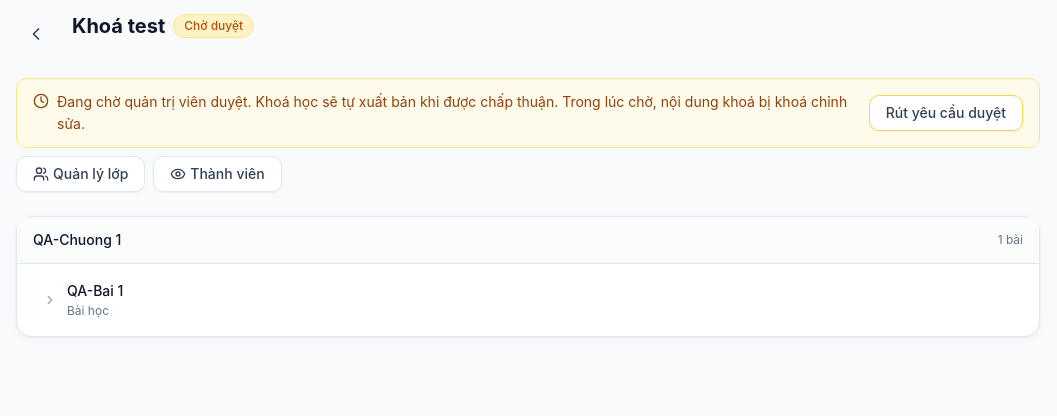
Scenario: /teacher/courses/[id] — gửi duyệt thay cho tự xuất bản (Phase 3) › khoá pending_review: nút Chỉnh sửa/Xoá/Thêm nội dung trong bài có 0
The image size is (1057, 416).
Click the text "QA-Bai 1".
click(95, 290)  # box [67, 282, 123, 299]
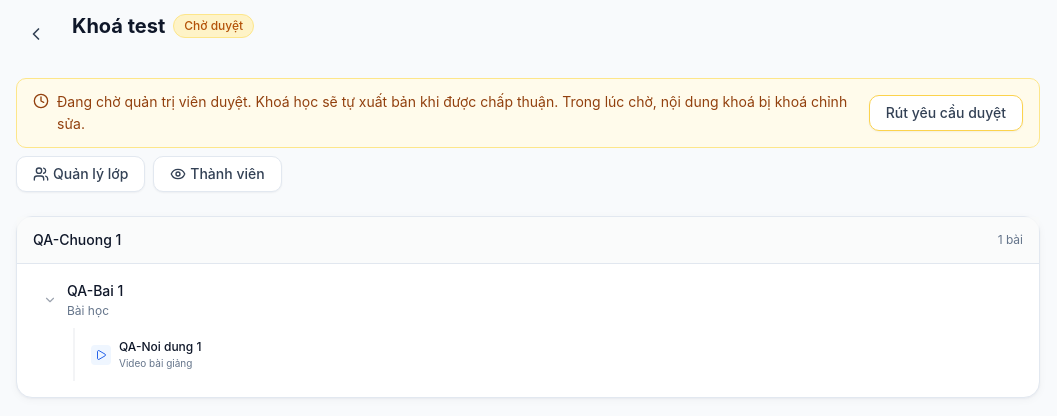
Now the text "QA-Noi dung 1" is shown, box [119, 339, 202, 354]
